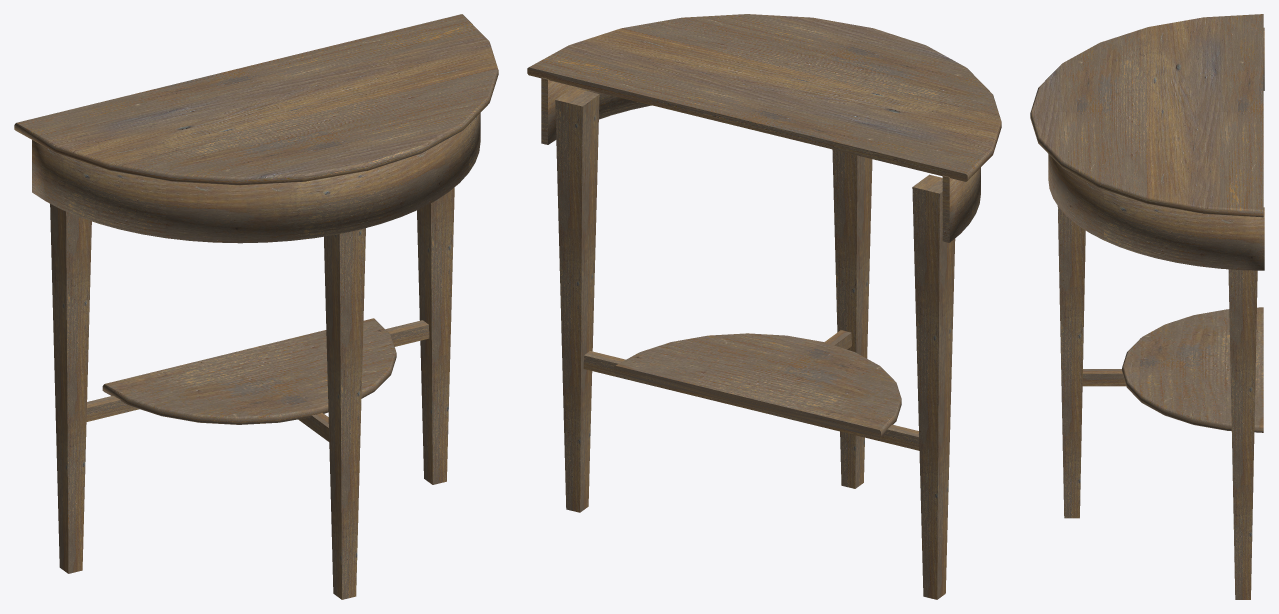
The model's file is endtable.glb.
3 renders of one model, left to right at view 1: azimuth 30°, elevation 25°; view 2: azimuth 150°, elevation 25°; view 3: azimuth 270°, elevation 25°, orthographic. The views are drawn at different scales.
Parts seen in each view (by area): view 1: Object; view 2: Object; view 3: Object.
Boxes of the visible parts, left/top/right/bottom form: Object: left=14, top=14, right=498, bottom=599; Object: left=527, top=14, right=1001, bottom=599; Object: left=1030, top=14, right=1264, bottom=599.
Size of the model in its own units: 7.37 by 7.03 by 3.7.
Materials: 2 (2 with a texture image).
